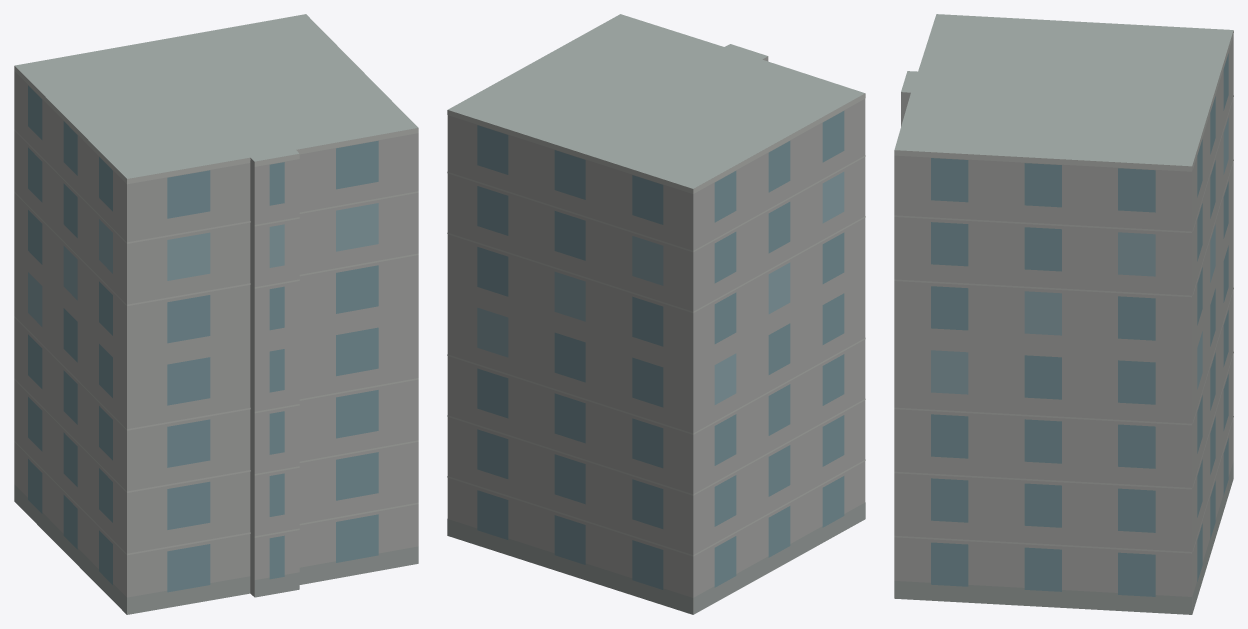
Rendered from survey-upis-32831152.glb.
3 renders of one model, left to right at view 1: azimuth 30°, elevation 25°; view 2: azimuth 150°, elevation 25°; view 3: azimuth 270°, elevation 25°, orthographic. The views are drawn at different scales.
Parts seen in each view (by area): view 1: survey-upis-32831152.tmp; view 2: survey-upis-32831152.tmp; view 3: survey-upis-32831152.tmp.
Part boxes in pixels (<box>): survey-upis-32831152.tmp: <box>14,14,418,614</box>; survey-upis-32831152.tmp: <box>447,14,865,614</box>; survey-upis-32831152.tmp: <box>894,14,1233,614</box>.
Bounding box in the file's own units: 14.63 × 20.05 × 13.77.
